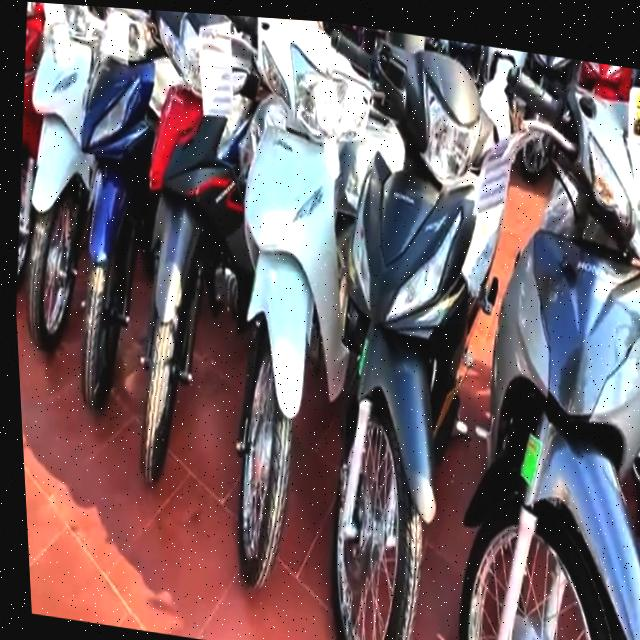motorcycle: (281, 19, 538, 640), (438, 43, 640, 640), (180, 12, 384, 603), (0, 0, 195, 473), (107, 7, 269, 503)
